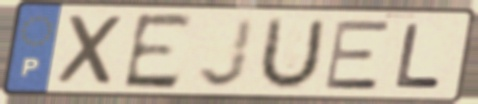E: (120, 11, 197, 92), (322, 18, 392, 92)
J: (195, 16, 258, 90)
L: (393, 21, 446, 90)
U: (253, 14, 329, 93)
X: (55, 12, 129, 88)
